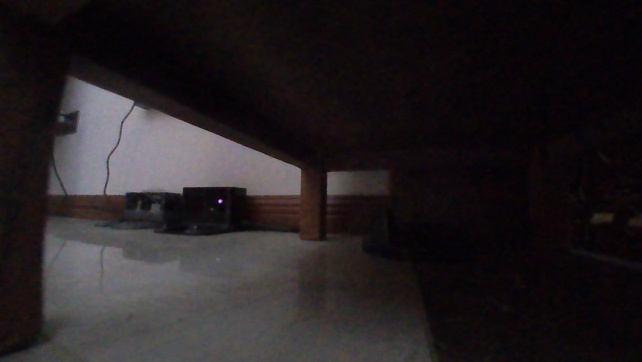charger: (151, 184, 249, 238), (92, 190, 181, 233)
wire: (42, 104, 136, 213), (238, 221, 302, 234)
